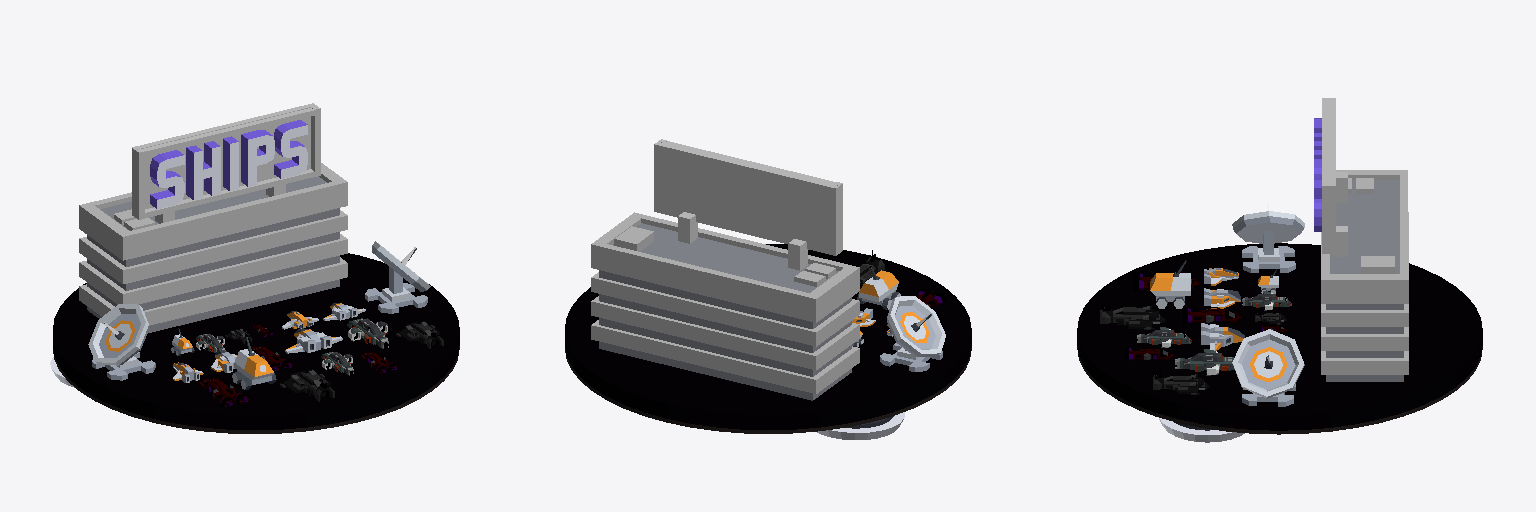
The picture shows the model from 3 angles: view 1: azimuth 30°, elevation 25°; view 2: azimuth 150°, elevation 25°; view 3: azimuth 270°, elevation 25°; orthographic projection.
Visible parts, largest first — view 1: base, low_wideA, ships, satelliteDish, Cube.002, satelliteDish.001, Cube.005, Cube.006, rover.001, ship_2.001, ship_3.001, craft_speederC.001 (+5 smaller); view 2: low_wideA, base, Cube.002, satelliteDish, rover.001, Cube, Cube.001; view 3: base, low_wideA, satelliteDish.001, satelliteDish, rover.001, ship_2.001, Cube.002, ship_3.001, ships, ship_2.002, craft_speederC.001, ship_1.002 (+4 smaller).
Boxes of the visible parts, <box> form: base: <box>50,253,459,433</box>; low_wideA: <box>79,163,347,332</box>; ships: <box>150,120,307,208</box>; satelliteDish: <box>88,304,155,380</box>; Cube.002: <box>132,103,316,216</box>; satelliteDish.001: <box>365,241,430,313</box>; Cube.005: <box>143,108,314,156</box>; Cube.006: <box>145,169,314,217</box>; rover.001: <box>232,337,276,389</box>; ship_2.001: <box>279,369,334,401</box>; ship_3.001: <box>347,318,388,348</box>; craft_speederC.001: <box>285,328,342,353</box>; low_wideA: <box>591,212,859,400</box>; base: <box>565,244,971,439</box>; Cube.002: <box>654,142,839,255</box>; satelliteDish: <box>880,296,945,371</box>; rover.001: <box>857,267,900,309</box>; Cube: <box>788,239,807,270</box>; Cube.001: <box>678,212,697,243</box>; base: <box>1077,243,1482,442</box>; low_wideA: <box>1321,170,1408,381</box>; satelliteDish.001: <box>1232,329,1304,406</box>; satelliteDish: <box>1232,203,1304,272</box>; rover.001: <box>1150,260,1190,308</box>; ship_2.001: <box>1100,302,1164,329</box>; Cube.002: <box>1329,98,1335,253</box>; ship_3.001: <box>1175,349,1234,375</box>; ships: <box>1314,118,1321,231</box>; ship_2.002: <box>1153,370,1208,394</box>; craft_speederC.001: <box>1201,323,1244,350</box>; ship_1.002: <box>1183,307,1240,323</box>.
Size of the model in its own units: 3.88 by 2.34 by 3.86.
Materials: 116 (1 with a texture image).